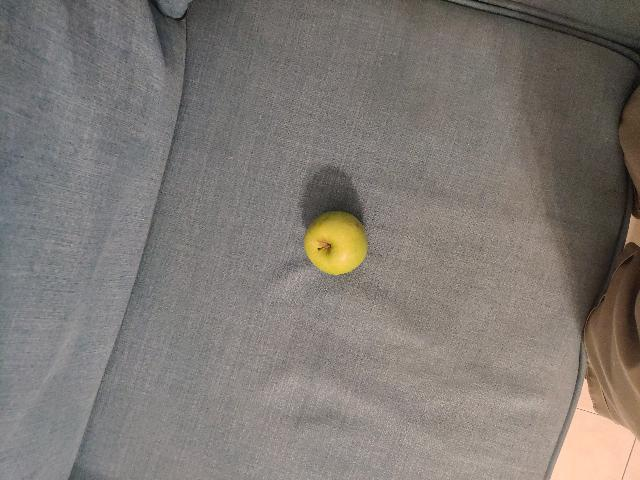apple: (299, 210, 388, 286)
